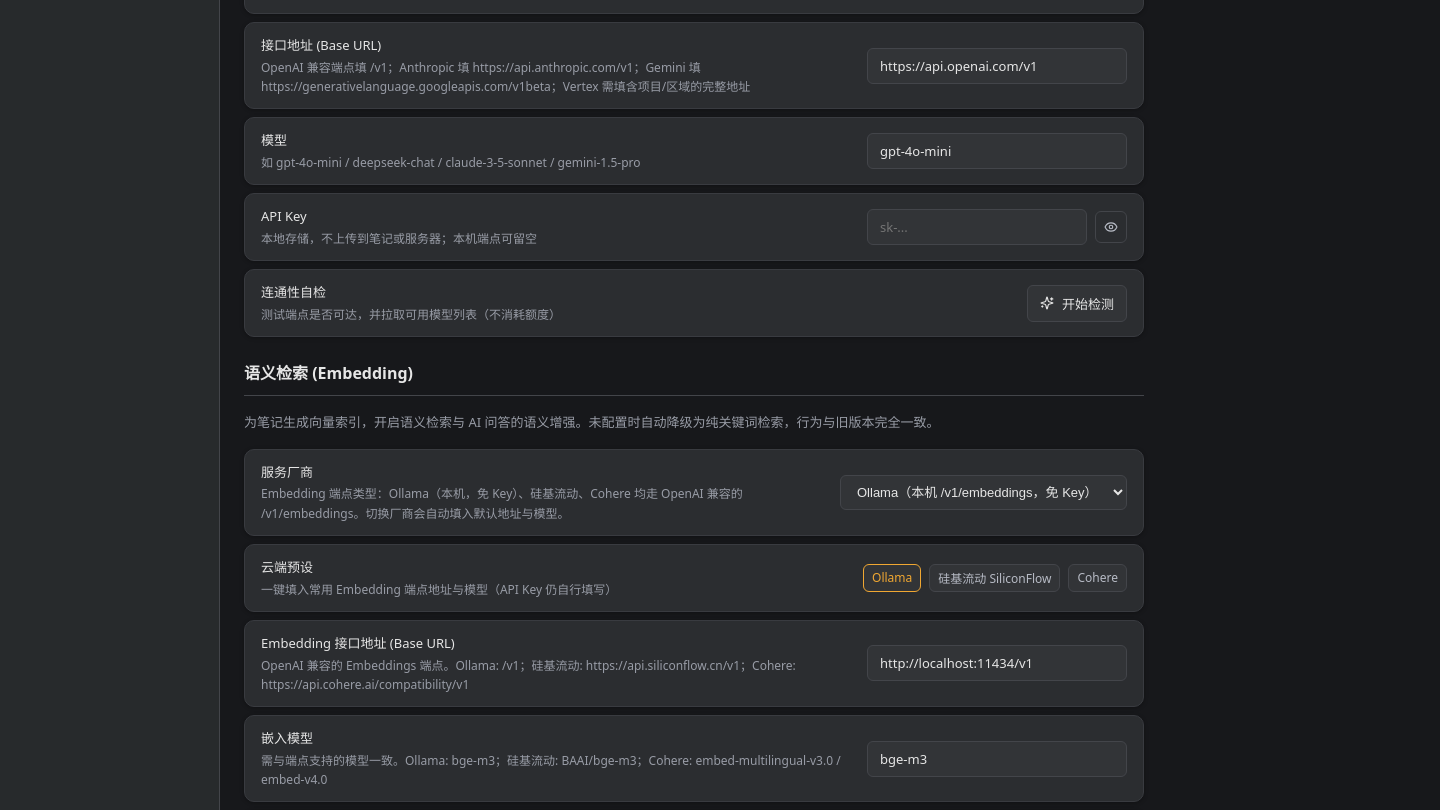
it: SettingsView · P1-6 LLM 端点配置 › 自检失败时标红并显示后端给出的排查指引
The width and height of the screenshot is (1440, 810).
(page scrolled)
Click the button with test id "probe-btn": (1077,303) top-left (1027, 285), bottom-right (1127, 322)
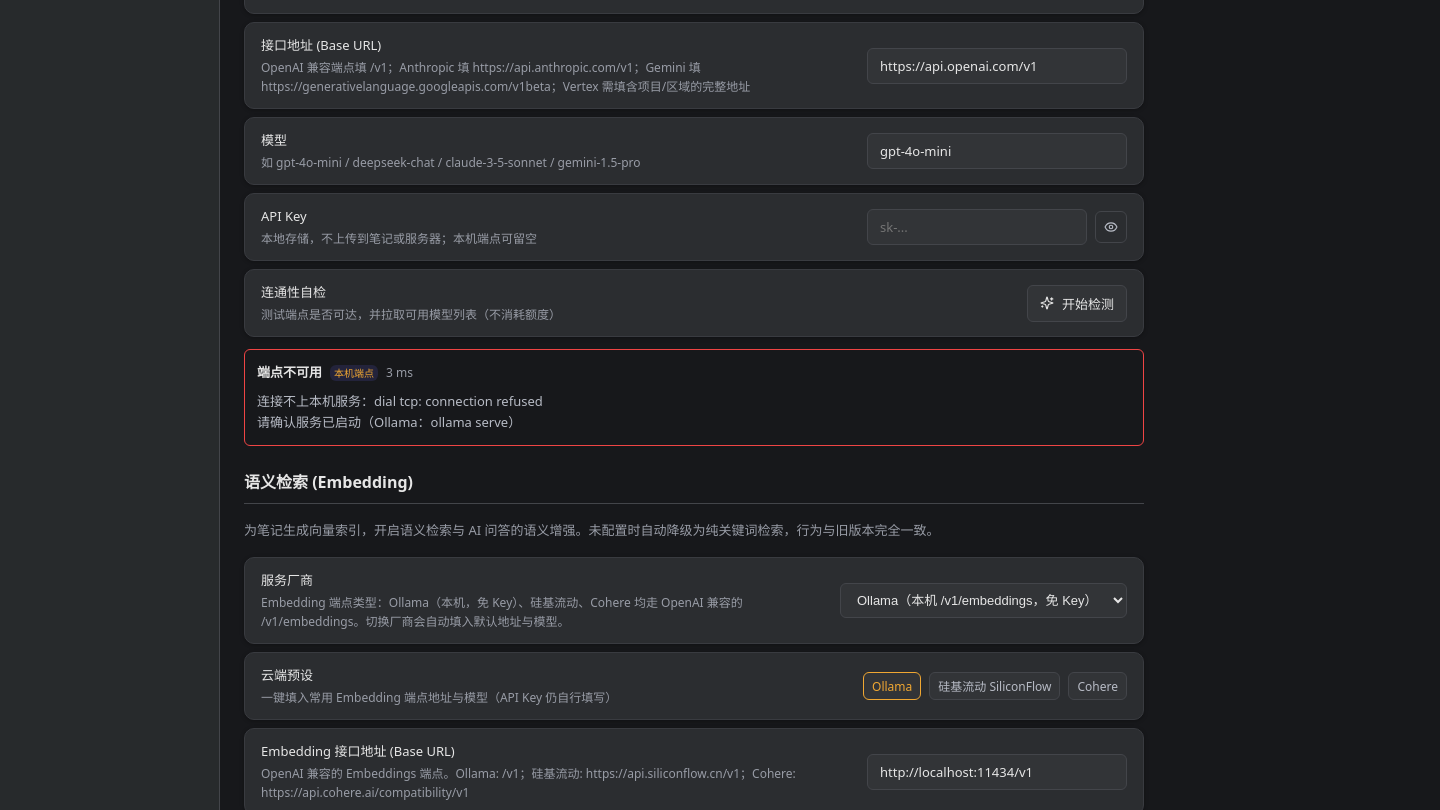
Expected: the element with test id "probe-result" shows "ollama serve", top-left (257, 392), bottom-right (543, 431)
